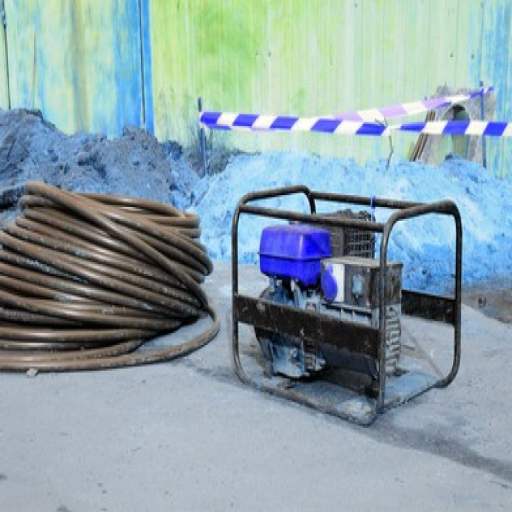portable_generator: (232, 185, 464, 421)
